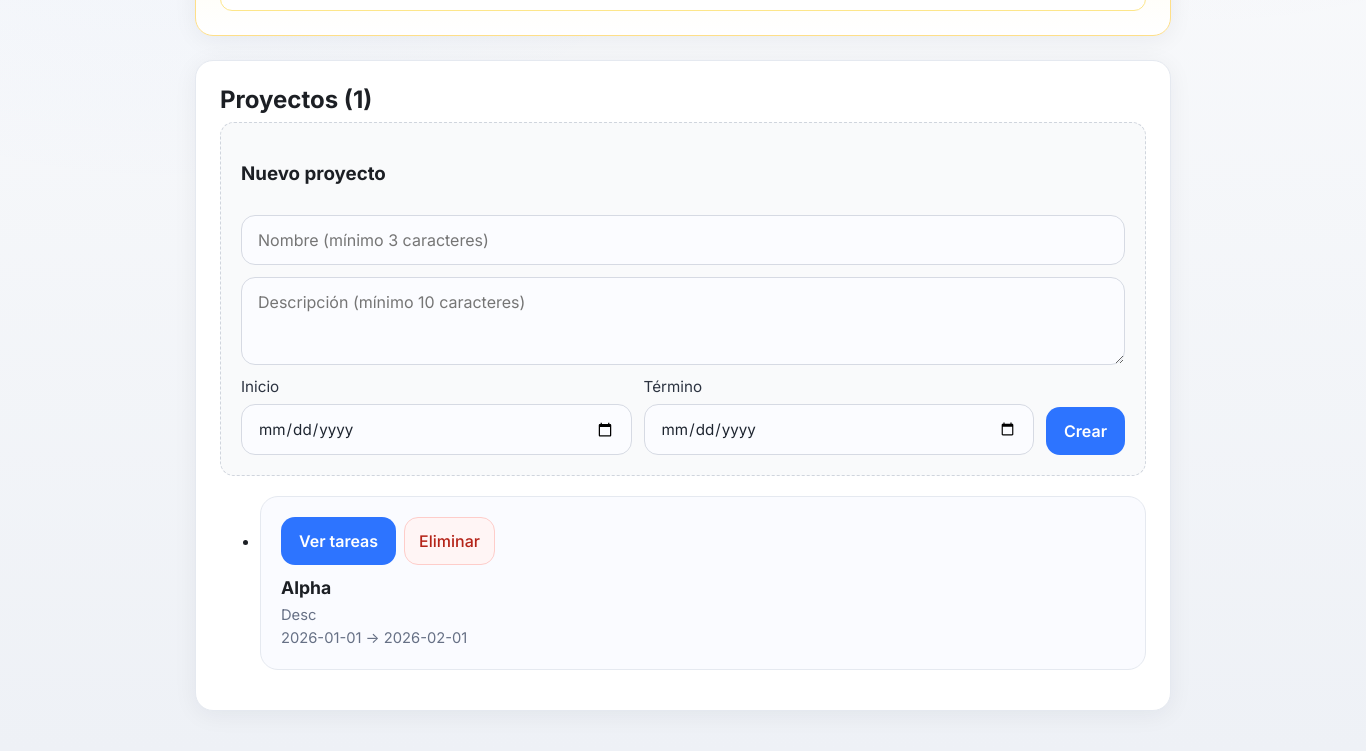
Test: DashboardPage › loads tasks when project selected
(page scrolled)
Expected: the heading "Alpha" is shown, [281,578,331,598]
Click the button "Ver tareas" at coordinates (339, 542), box [281,518,396,566]
(page scrolled)
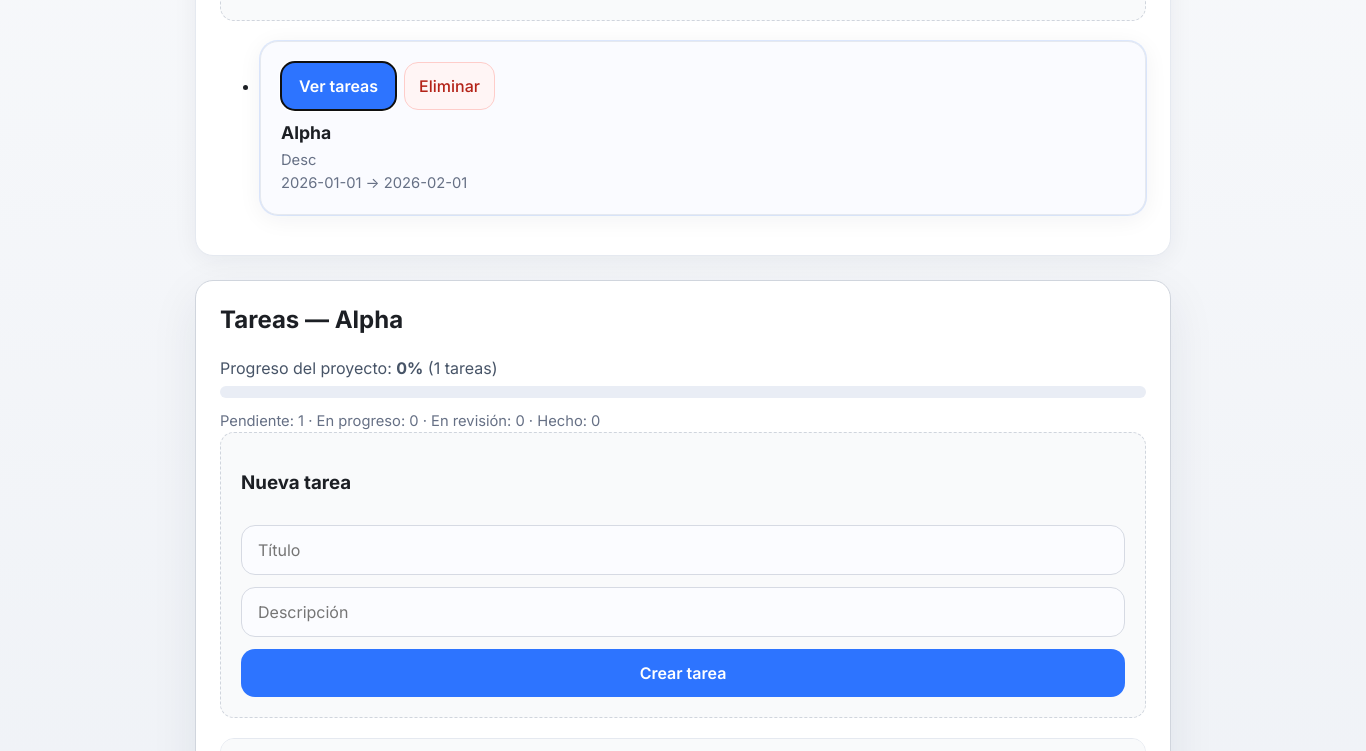
Expected: the text "Progreso del proyecto: 0% (1 tareas)" is shown, [220,358,498,378]
